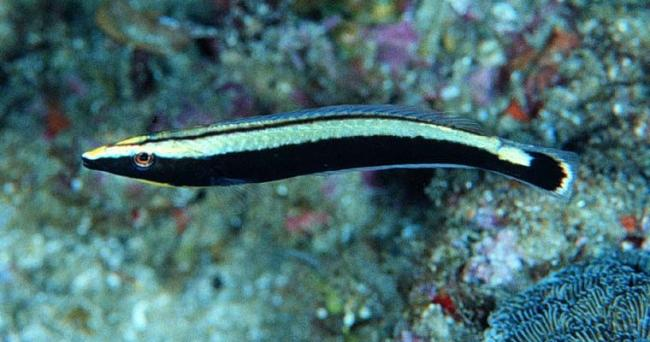fish: (80, 104, 582, 201)
